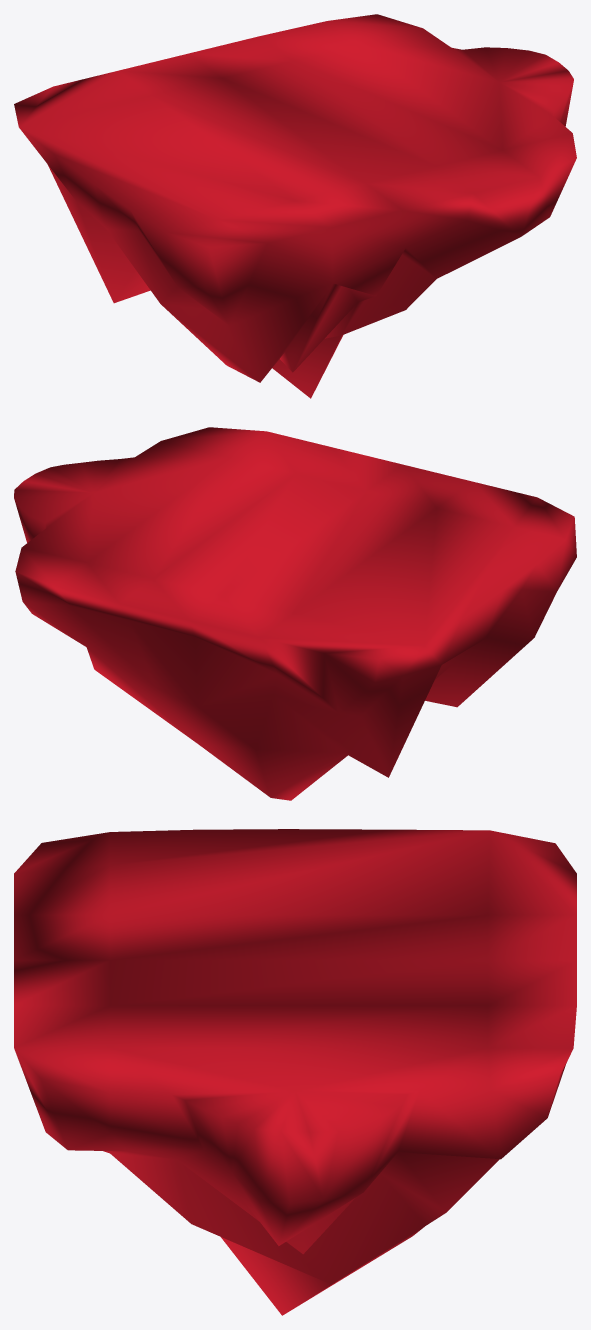
File: lok1_v1.fbx
3 renders of one model, top to bottom at view 1: azimuth 30°, elevation 25°; view 2: azimuth 150°, elevation 25°; view 3: azimuth 270°, elevation 25°, orthographic. The views are drawn at different scales.
Parts seen in each view (by area): view 1: Plane.001; view 2: Plane.001; view 3: Plane.001.
Boxes of the visible parts, x1=… form: Plane.001: x1=14, y1=14, x2=576, y2=398; Plane.001: x1=14, y1=427, x2=576, y2=800; Plane.001: x1=14, y1=829, x2=576, y2=1315.
Size of the model in its own units: 10052 by 5388 by 7879.
